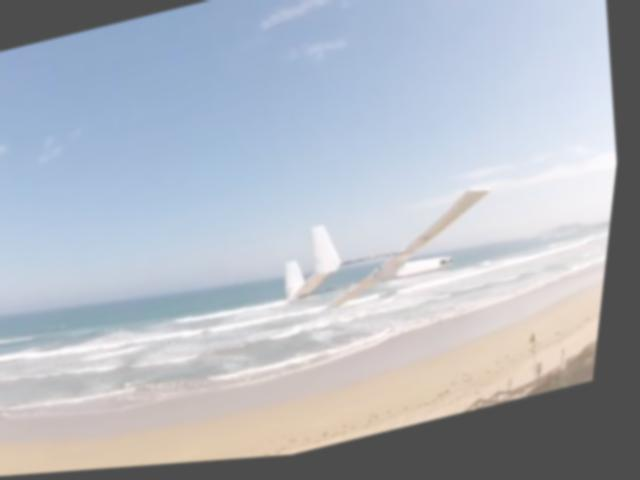uav: (272, 183, 514, 326)
